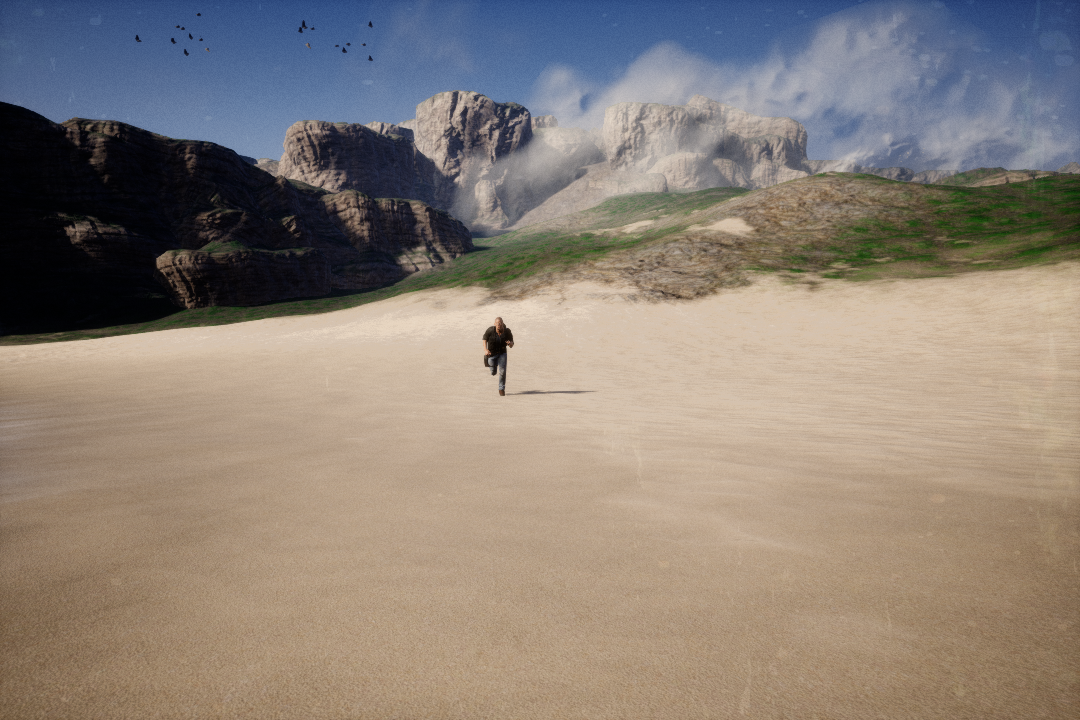person: (470, 320, 524, 400)
